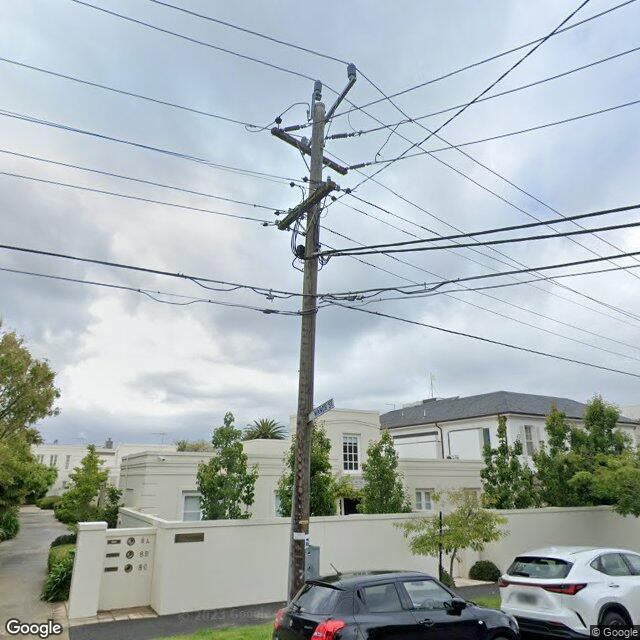HV-transmission: (270, 64, 372, 175)
crossarm: (263, 176, 351, 231), (272, 127, 348, 175), (324, 77, 357, 124)
timber-pole: (287, 102, 326, 605)
